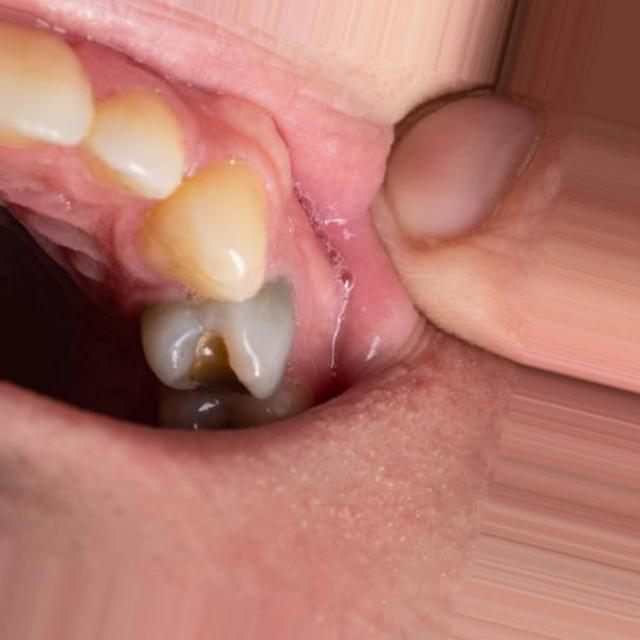caries: (168, 320, 268, 408)
